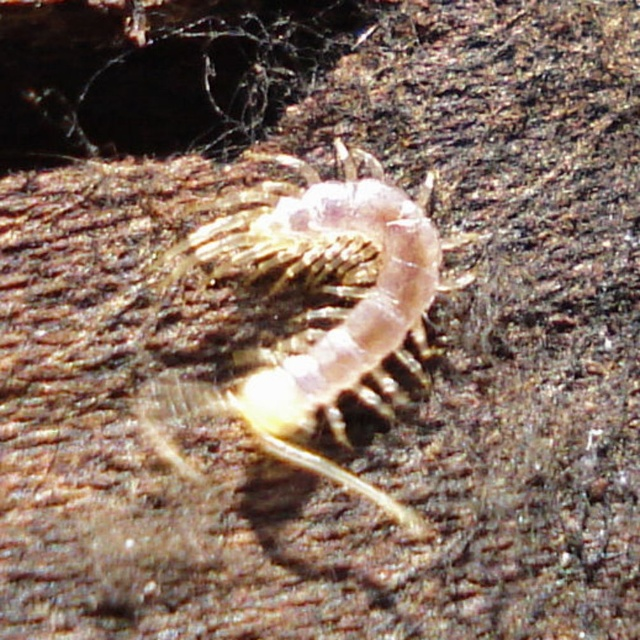Centipede: (148, 137, 478, 535)
